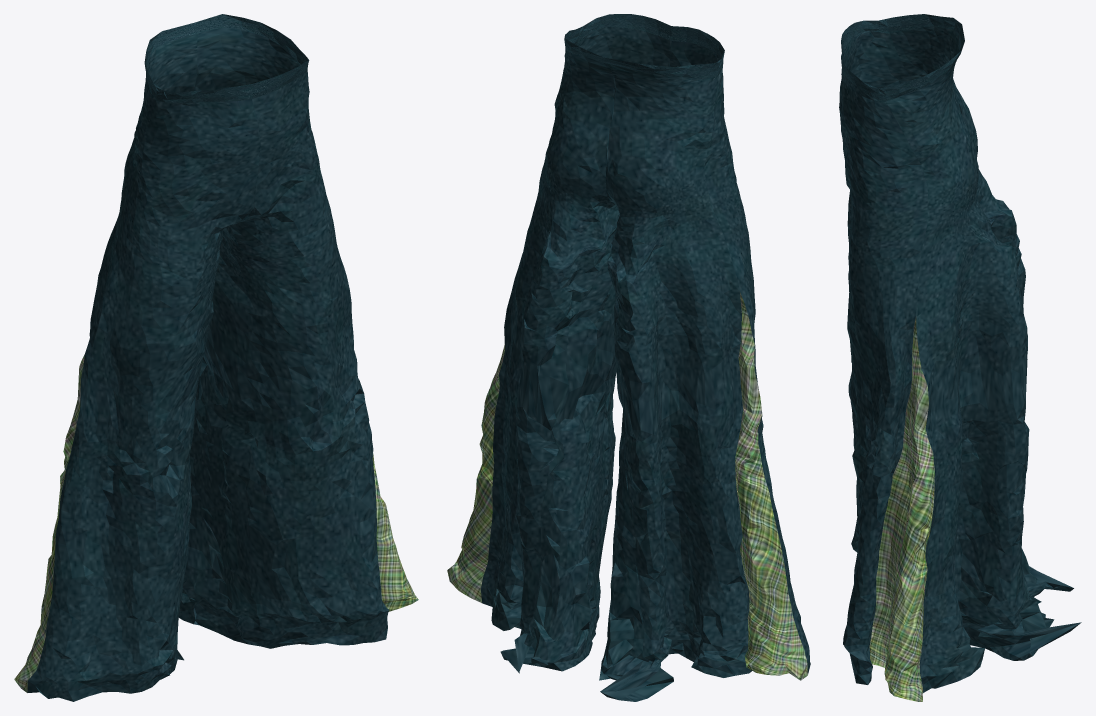
The model's file is mhw_elvs_gored_elephant_pants.glb.
The picture shows the model from 3 angles, left to right: view 1: azimuth 30°, elevation 25°; view 2: azimuth 150°, elevation 25°; view 3: azimuth 270°, elevation 25°; orthographic projection. The views are drawn at different scales.
Visible parts, largest first — view 1: mhw_elvs_gored_elephant_pants; view 2: mhw_elvs_gored_elephant_pants; view 3: mhw_elvs_gored_elephant_pants.
Part boxes in pixels (left/top/right/bottom): mhw_elvs_gored_elephant_pants: left=14, top=14, right=418, bottom=701; mhw_elvs_gored_elephant_pants: left=447, top=14, right=810, bottom=701; mhw_elvs_gored_elephant_pants: left=839, top=14, right=1081, bottom=701.
Bounding box in the file's own units: 0.7648 × 1.19 × 0.4411.
Materials: 1 (1 with a texture image).
